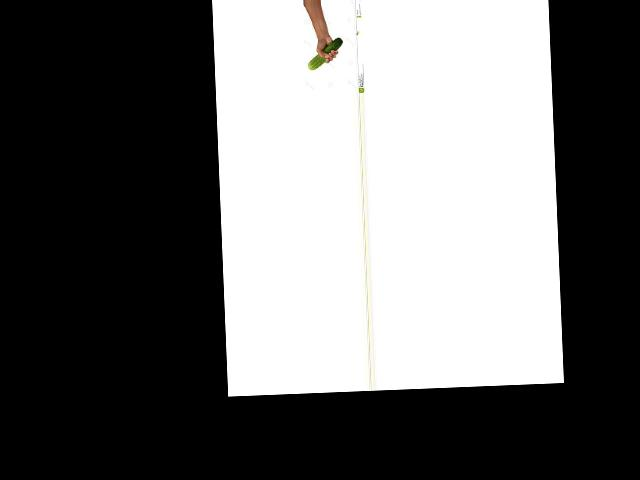cucumber: (307, 36, 344, 69)
